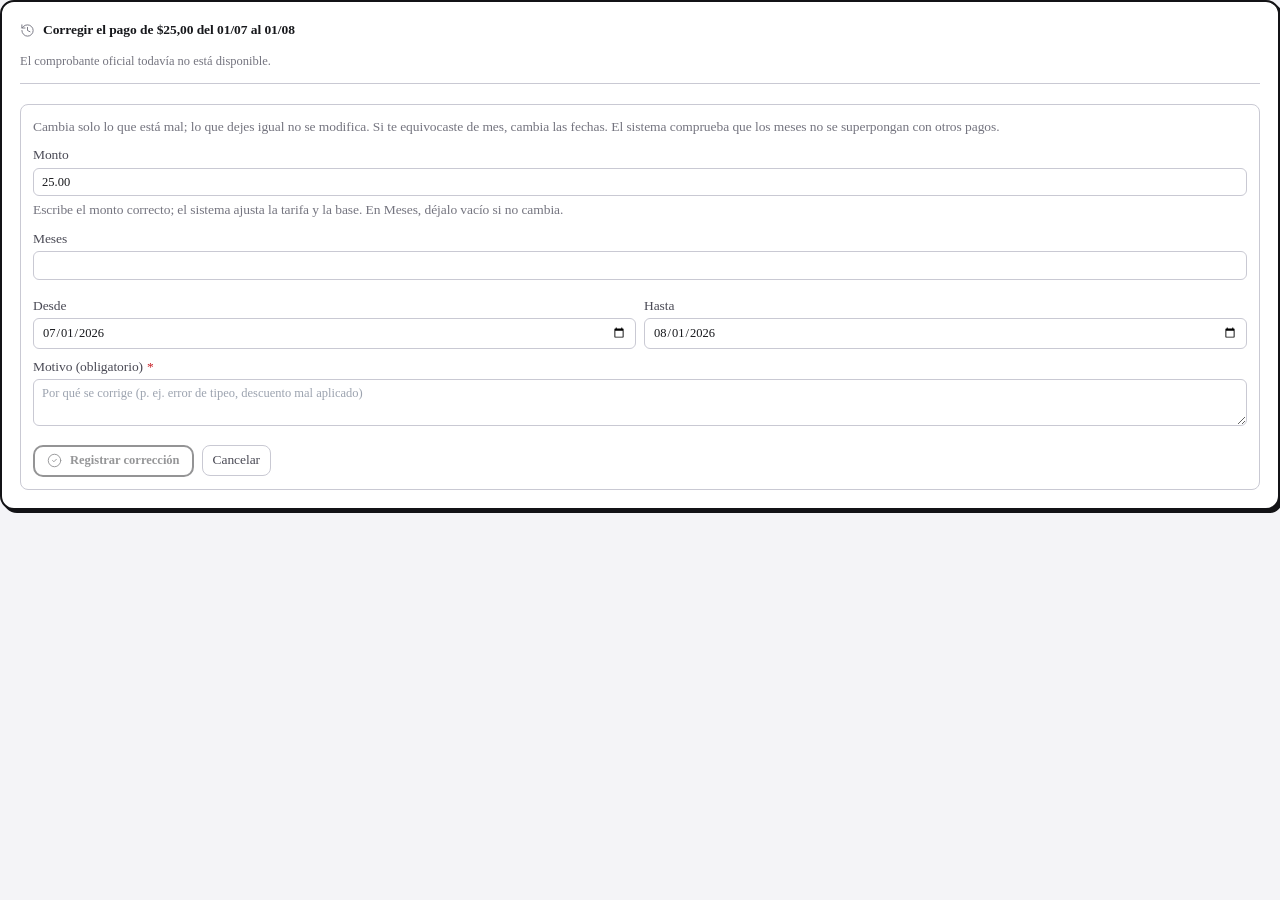
PagoCorreccionSection — extended (amount, months, dates) › months change — the recalculated amount is shown before saving (#1762) › shows the server's rule instead of a preview when a discounted payment goes past one month
The image size is (1280, 900).
Expected: the button "Registrar corrección" is shown, top-left (33, 444), bottom-right (194, 476)
Type "2" into the number field labelled "Meses" at (640, 265), box top-left (33, 251), bottom-right (1247, 280)
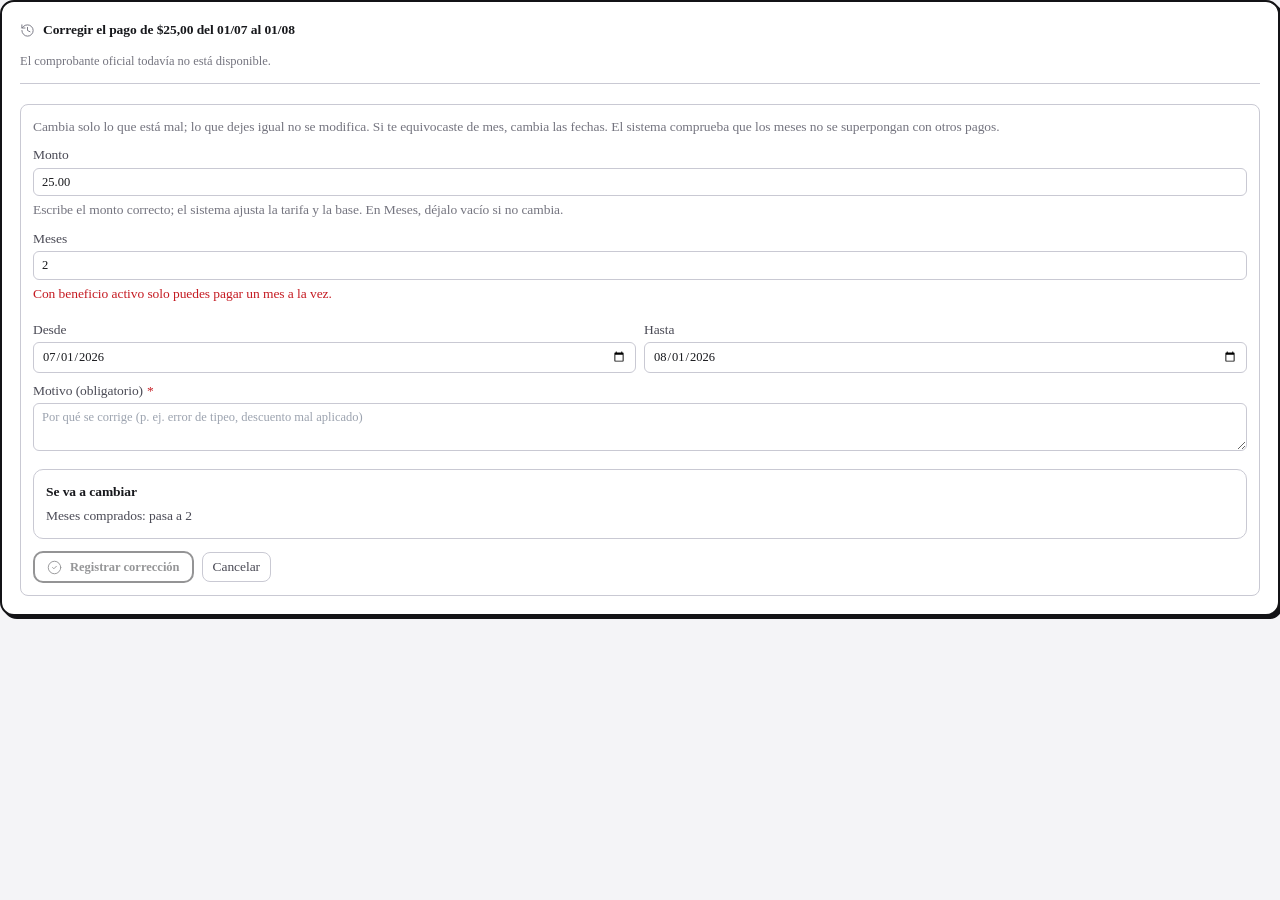
Expected: the text "Con beneficio activo solo puedes pagar un mes a la vez." is shown, top-left (33, 286), bottom-right (332, 300)
